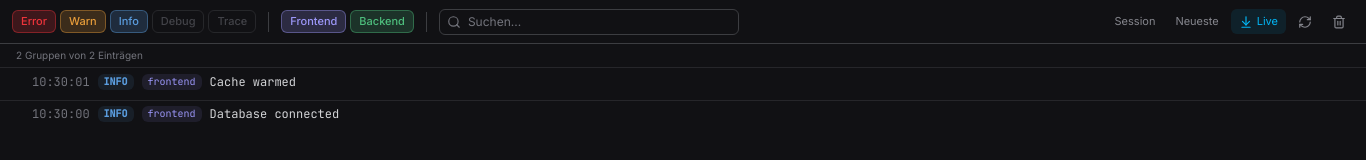
Scenario: LogViewer — toolbar interactions › filters entries by the search input (case-insensitive)
In the field with placeholder "Suchen...": (589, 22) x1=439 y1=9 x2=739 y2=35, type "database"
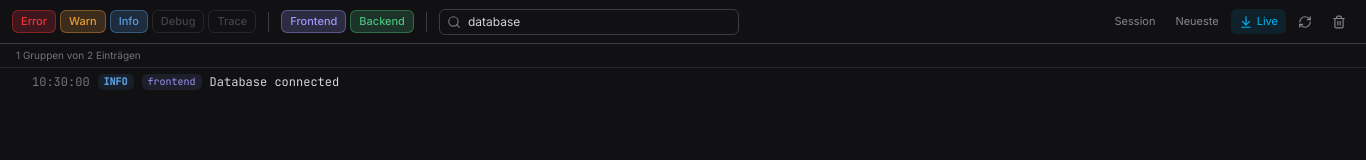
Expected: the text "Database connected" is shown, x1=210 y1=74 x2=339 y2=90
Now the text "Cache warmed" is gone
